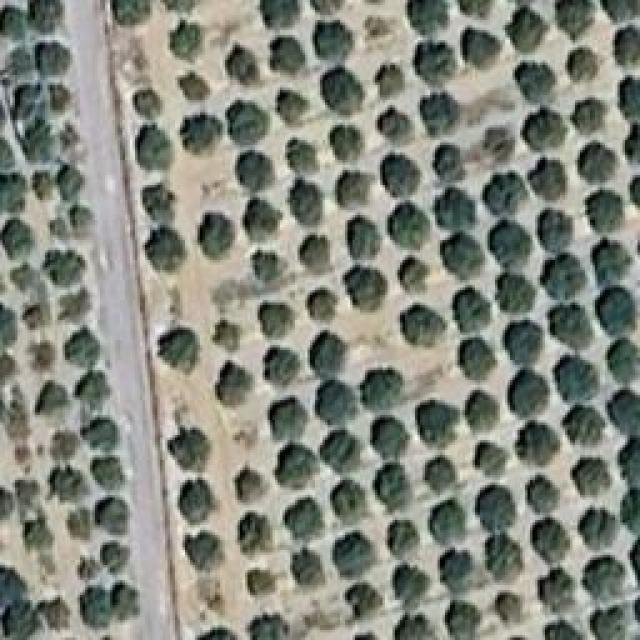Tree: (318, 426, 366, 484), (383, 198, 431, 253), (478, 533, 528, 585), (510, 365, 554, 423), (213, 360, 263, 411), (265, 443, 318, 490), (333, 525, 380, 578), (175, 110, 221, 162), (430, 548, 479, 596), (163, 425, 212, 472), (550, 355, 596, 405), (563, 400, 608, 451), (425, 188, 475, 233), (518, 108, 568, 153), (80, 408, 119, 465), (160, 325, 206, 373), (580, 555, 628, 601), (195, 210, 240, 259), (413, 400, 459, 447), (525, 153, 573, 198), (452, 288, 495, 338), (595, 283, 637, 334), (480, 488, 525, 535), (538, 252, 586, 296), (358, 365, 402, 413), (505, 8, 549, 55), (550, 298, 593, 346), (462, 385, 505, 433), (400, 302, 450, 343), (323, 70, 367, 116), (415, 40, 459, 86), (470, 122, 516, 166), (313, 382, 359, 426), (342, 575, 386, 621), (341, 263, 384, 310), (340, 215, 383, 262), (540, 568, 583, 615), (142, 230, 186, 275), (585, 188, 629, 233), (217, 45, 260, 91), (502, 320, 545, 366), (420, 90, 462, 137), (603, 330, 640, 383), (513, 58, 557, 102), (282, 498, 326, 542), (446, 233, 488, 279), (587, 238, 629, 284), (282, 550, 324, 596), (15, 120, 56, 167), (370, 465, 410, 513), (492, 275, 536, 318), (455, 335, 498, 379), (242, 198, 284, 243), (230, 103, 270, 150), (588, 600, 636, 639), (260, 350, 303, 393), (483, 170, 527, 212), (430, 508, 472, 552), (575, 450, 614, 497), (487, 220, 529, 263), (305, 330, 348, 372), (182, 532, 225, 574), (312, 22, 356, 63), (460, 25, 501, 69), (60, 325, 100, 370), (327, 483, 367, 528), (520, 423, 558, 470), (93, 493, 130, 541), (230, 150, 272, 192), (376, 152, 418, 194), (267, 398, 307, 442), (110, 578, 148, 624), (390, 565, 428, 611), (532, 520, 573, 562), (45, 467, 89, 506), (563, 43, 600, 89), (384, 520, 418, 570), (607, 393, 639, 446), (575, 505, 616, 546), (427, 140, 467, 182), (242, 565, 282, 607), (270, 35, 308, 79), (405, 0, 449, 38), (575, 142, 613, 186), (180, 475, 218, 519), (527, 470, 565, 514), (298, 233, 334, 279), (538, 208, 574, 254), (554, 0, 594, 41), (470, 437, 511, 477), (445, 602, 488, 640), (0, 600, 41, 639), (17, 517, 56, 558), (78, 580, 114, 624), (238, 513, 271, 561), (38, 595, 75, 637), (335, 170, 372, 212), (167, 20, 205, 60), (55, 292, 95, 330), (55, 160, 87, 207), (424, 450, 458, 494), (140, 182, 178, 221), (2, 257, 40, 296), (250, 250, 290, 287), (328, 122, 365, 162), (398, 255, 434, 296), (95, 542, 130, 584), (573, 95, 606, 139), (207, 320, 245, 358), (0, 215, 32, 260), (285, 140, 321, 180), (27, 0, 62, 41), (87, 455, 128, 490), (370, 420, 405, 461), (494, 588, 526, 632), (138, 140, 173, 180), (248, 605, 288, 640), (612, 23, 640, 72), (38, 43, 75, 80), (8, 472, 42, 512), (110, 0, 155, 30), (255, 0, 301, 29), (25, 170, 62, 206), (73, 377, 107, 416), (288, 182, 322, 221), (374, 110, 408, 149), (42, 250, 82, 283), (305, 285, 338, 325), (230, 470, 266, 506), (133, 90, 168, 126), (53, 117, 85, 156), (376, 65, 408, 104), (260, 300, 293, 337), (44, 80, 78, 115), (3, 48, 36, 84), (50, 426, 81, 464), (38, 380, 70, 416), (31, 334, 62, 371), (2, 0, 30, 40), (390, 618, 439, 640), (0, 175, 28, 212), (18, 93, 50, 124), (278, 93, 309, 124), (615, 492, 640, 530), (75, 555, 104, 587), (0, 565, 25, 602), (620, 440, 640, 486), (23, 300, 52, 331), (70, 205, 101, 234), (43, 218, 76, 245), (455, 0, 493, 23), (595, 0, 638, 20), (180, 70, 212, 95), (0, 351, 21, 388), (545, 618, 580, 640), (620, 77, 640, 115), (0, 305, 18, 345), (0, 129, 17, 171), (0, 479, 15, 523), (70, 508, 89, 542), (625, 175, 639, 221), (625, 122, 639, 162)
